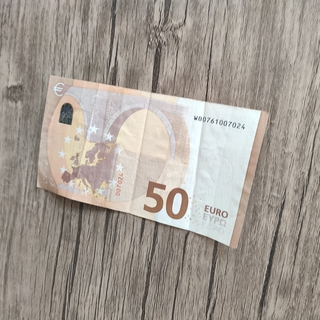50EUROBack: (34, 73, 271, 250)
